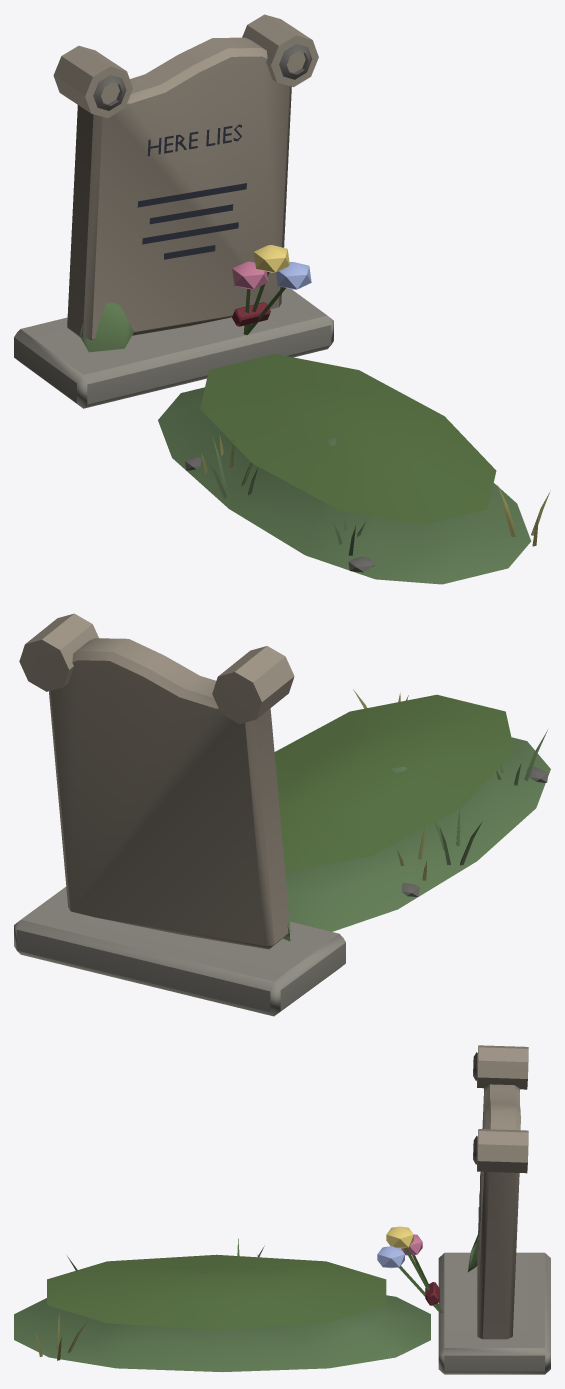
The model's file is grave_marked_scroll.glb.
3 views of the same model, one above another, from view 1: azimuth 30°, elevation 25°; view 2: azimuth 150°, elevation 25°; view 3: azimuth 270°, elevation 25° (orthographic). The views are drawn at different scales.
Visible parts, largest first — view 1: grave_marked_scroll, flag, sign; view 2: grave_marked_scroll; view 3: grave_marked_scroll, flag.
Boxes of the visible parts, x1,y1,x2,y2 form: grave_marked_scroll: [14, 14, 550, 584]; flag: [232, 245, 311, 334]; sign: [137, 124, 246, 259]; grave_marked_scroll: [14, 613, 550, 1016]; grave_marked_scroll: [14, 1045, 550, 1374]; flag: [377, 1226, 442, 1313].
Size of the model in its own units: 0.827 by 0.9365 by 1.81.
